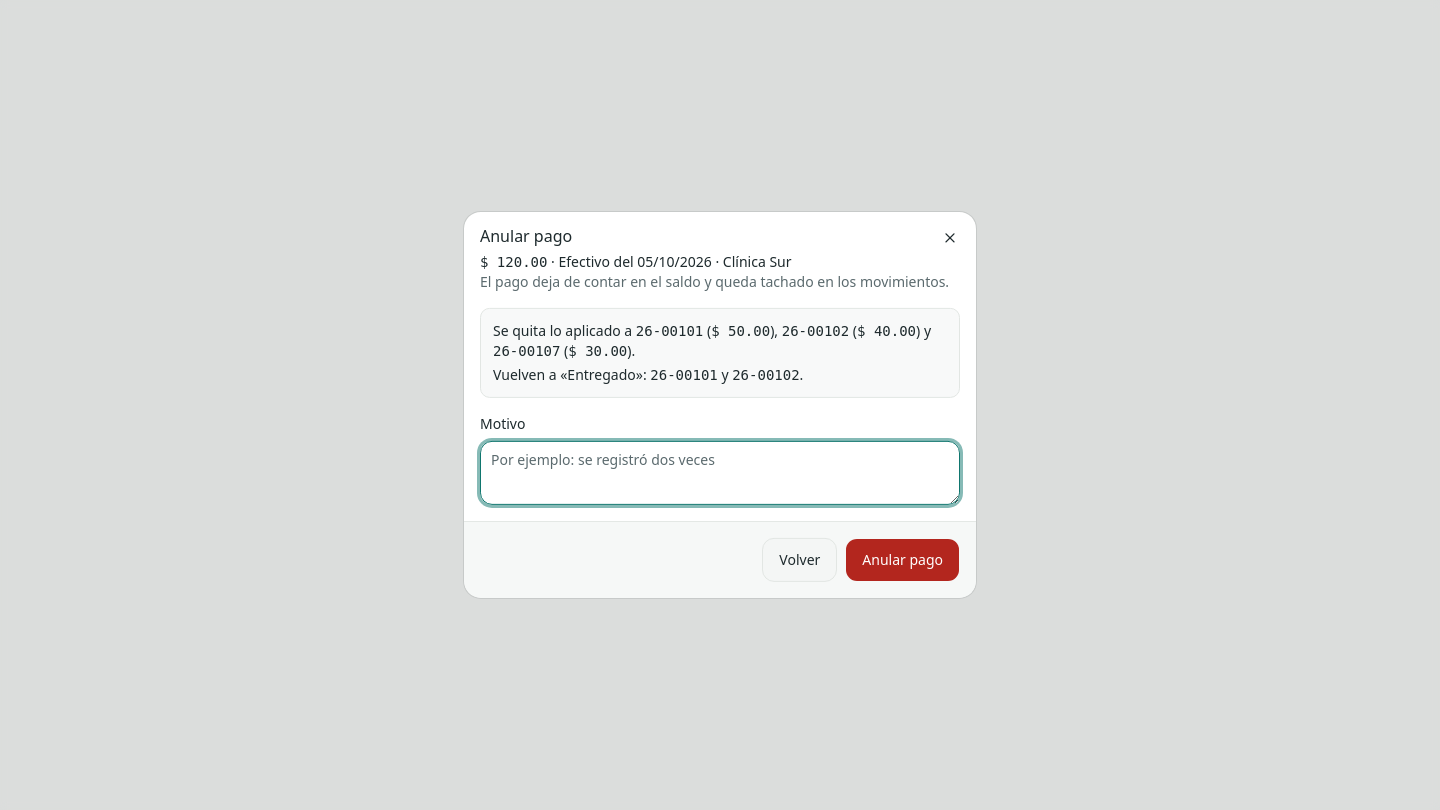
Test: VoidPaymentDialog («Anular pago», CTA-2) › el motivo es obligatorio
The width and height of the screenshot is (1440, 810).
Click the button "Anular pago".
click(903, 560)  # box x1=845 y1=538 x2=960 y2=582
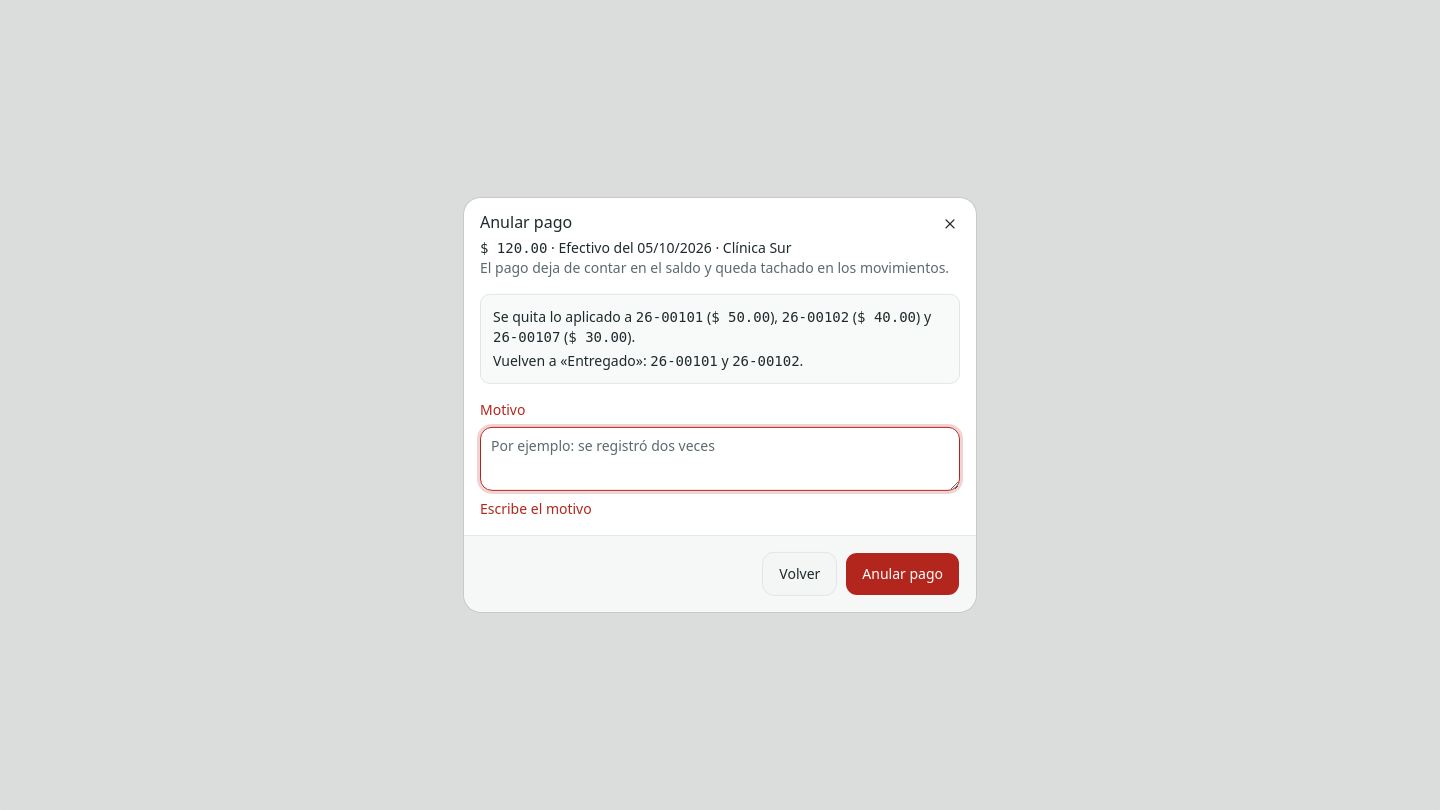
Now the text "Escribe el motivo" is shown, box x1=480 y1=499 x2=592 y2=518
